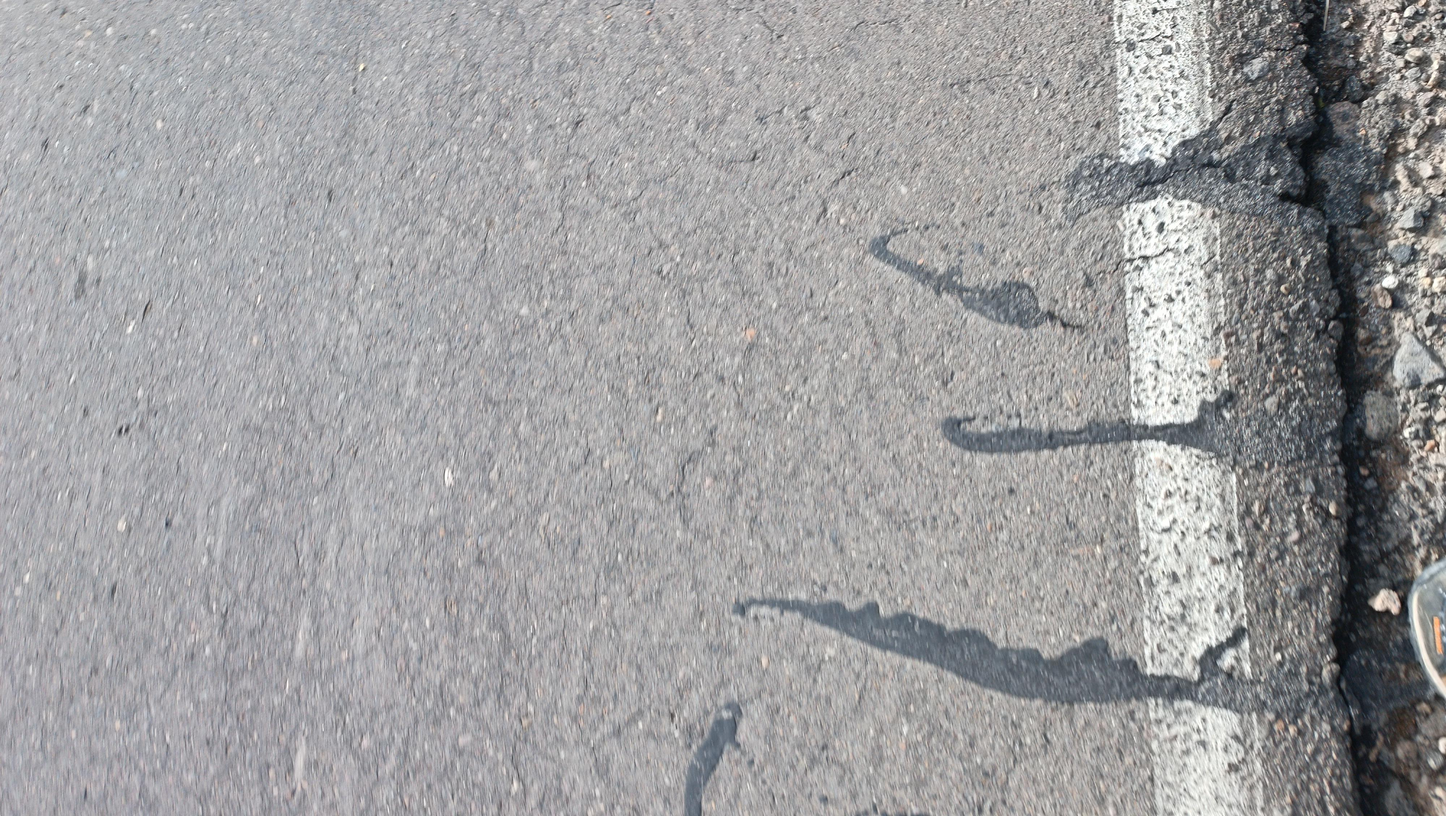PIEL DE COCODRILO: (266, 0, 882, 765)
